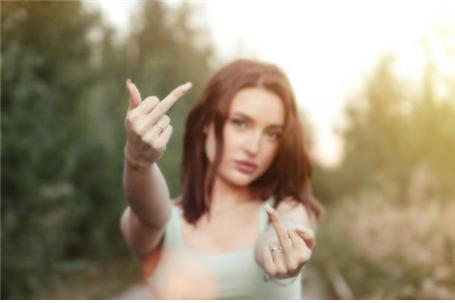insulting_gesture: (122, 71, 192, 172), (261, 196, 317, 282)
